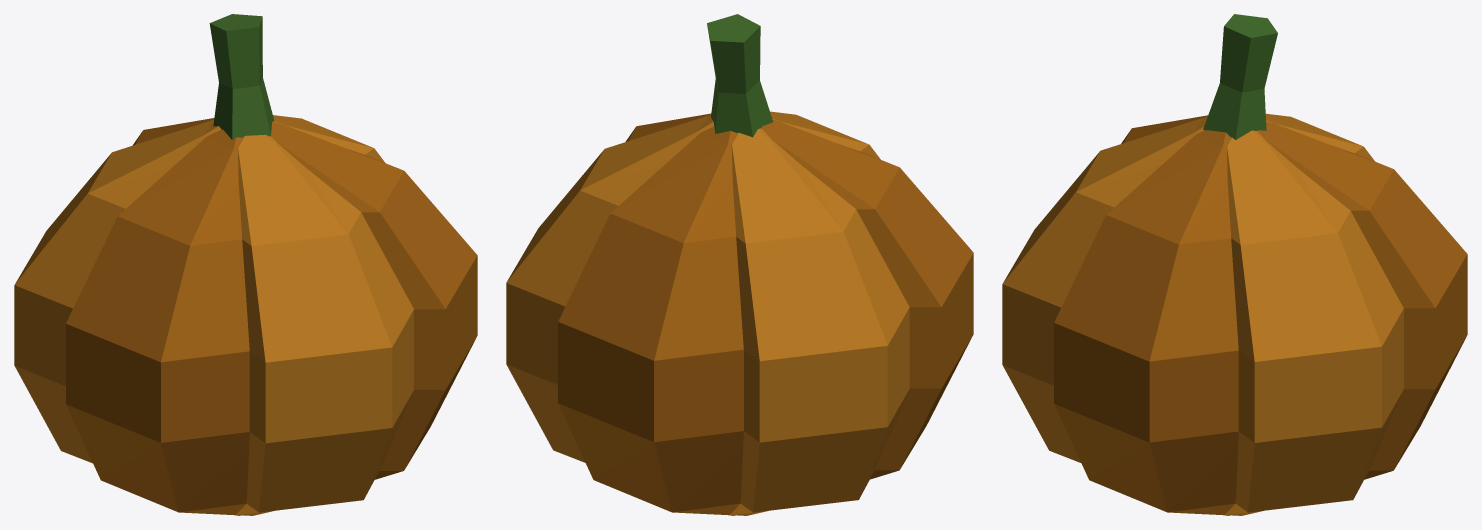
The model's file is squash.gltf.
3 views of the same model, side by side, from view 1: azimuth 30°, elevation 25°; view 2: azimuth 150°, elevation 25°; view 3: azimuth 270°, elevation 25° (orthographic).
Parts seen in each view (by area): view 1: squash; view 2: squash; view 3: squash.
Part boxes in pixels (bbox=[...]): squash: bbox=[14, 14, 477, 515]; squash: bbox=[506, 14, 973, 515]; squash: bbox=[1002, 14, 1467, 515].
Size of the model in its own units: 0.1953 by 0.239 by 0.2062.
